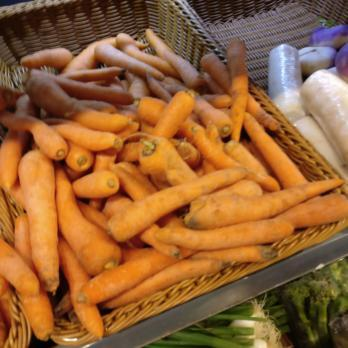Carrot: (1, 61, 113, 339), (115, 56, 218, 278), (213, 69, 301, 261), (16, 27, 203, 62)
